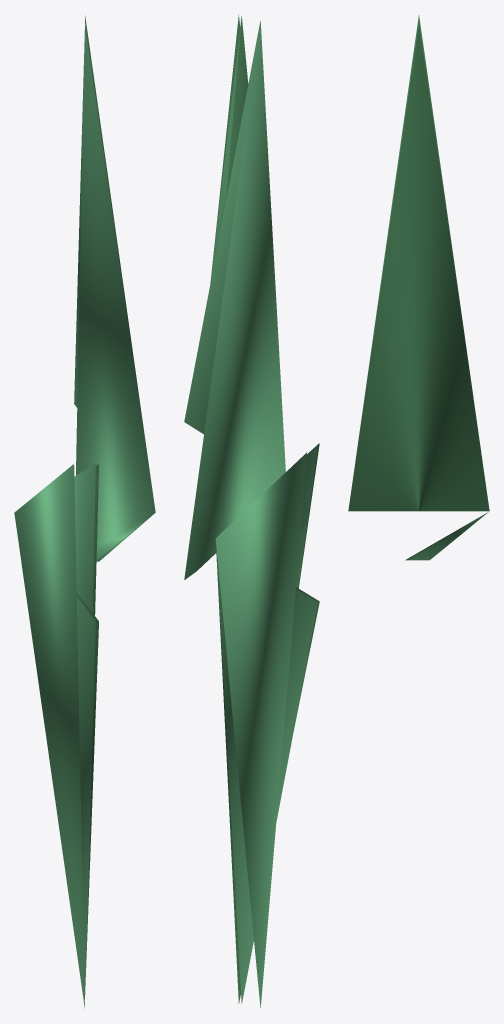
File: equip_shield_adamant_sq.glb
3 renders of one model, left to right at view 1: azimuth 90°, elevation 25°; view 2: azimuth 150°, elevation 25°; view 3: azimuth 270°, elevation 25°, orthographic.
Visible parts, largest first — view 1: equip_shield_adamant_sq; view 2: equip_shield_adamant_sq; view 3: equip_shield_adamant_sq.
Boxes of the visible parts, bbox=[...] form: equip_shield_adamant_sq: bbox=[14, 15, 155, 1008]; equip_shield_adamant_sq: bbox=[184, 14, 319, 1007]; equip_shield_adamant_sq: bbox=[348, 15, 489, 560].
Bounding box in the file's own units: 0.26 × 2 × 0.26.
